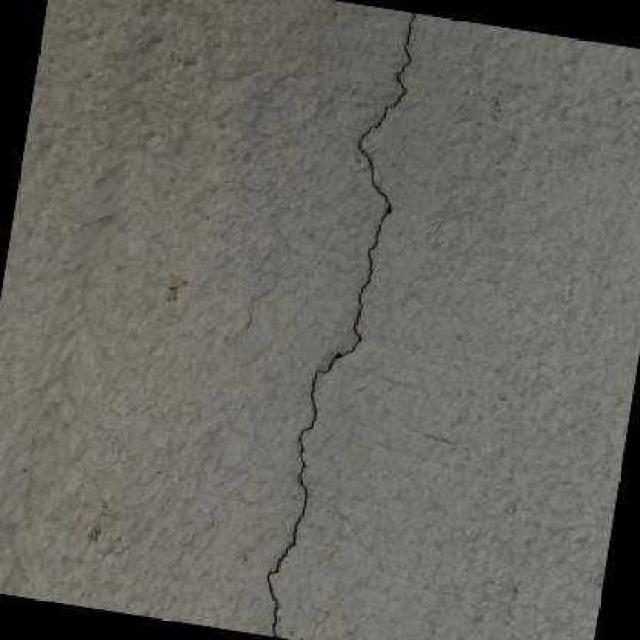D00: (265, 10, 416, 637)
